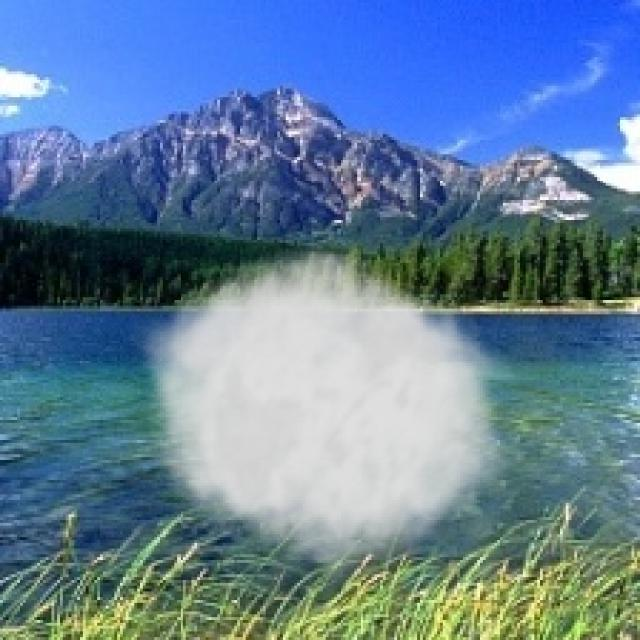smoke: (129, 237, 514, 583)
